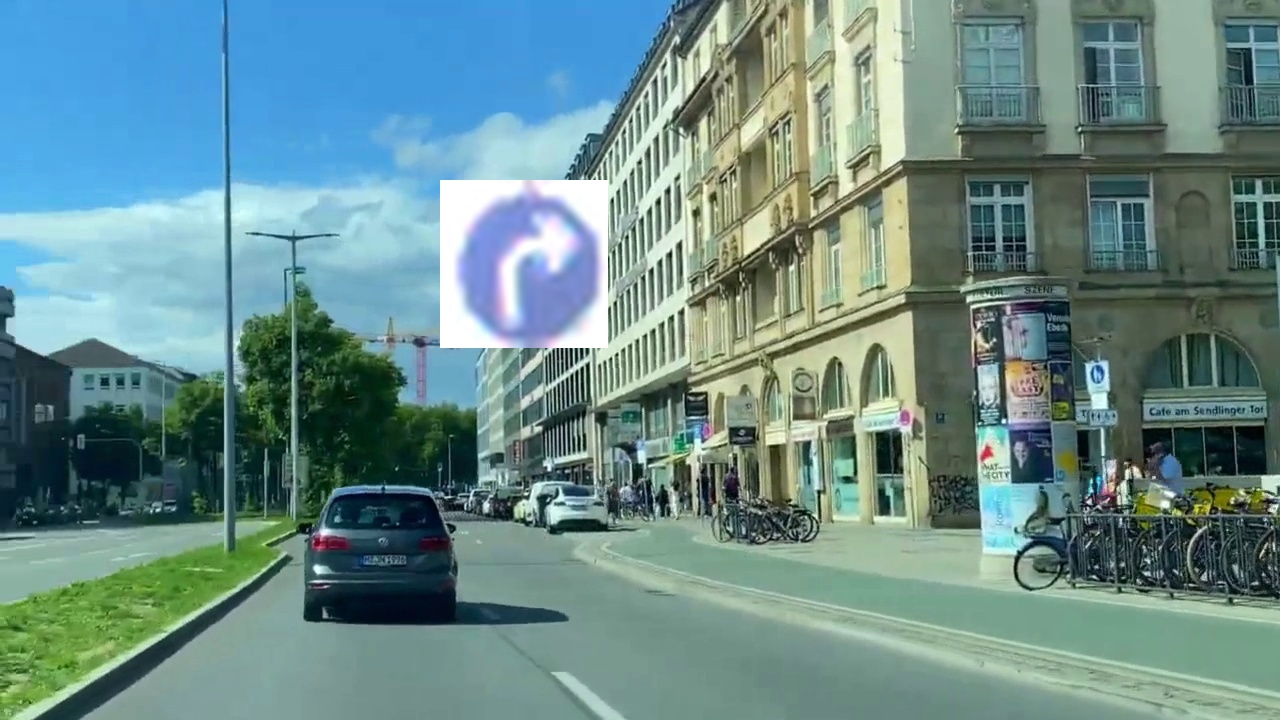Turn right: (440, 180, 608, 348)
